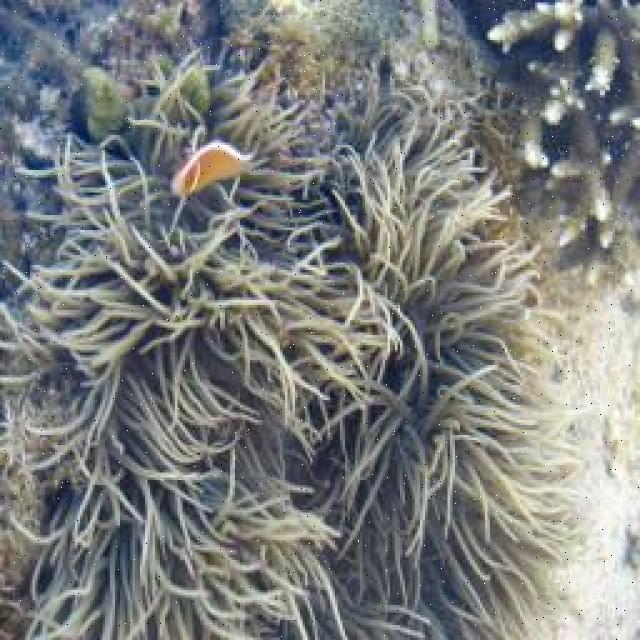fish: (170, 139, 261, 197)
reefs: (0, 40, 596, 638)
